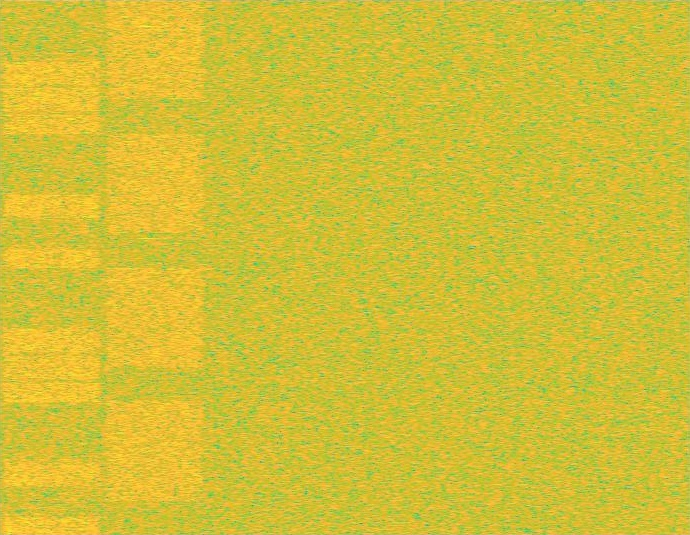5G: (104, 0, 207, 534)
LTE: (0, 0, 104, 534)
Radar: (141, 0, 155, 534)
